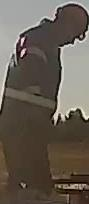helmet: (56, 3, 89, 42)
vest: (0, 31, 61, 155)
